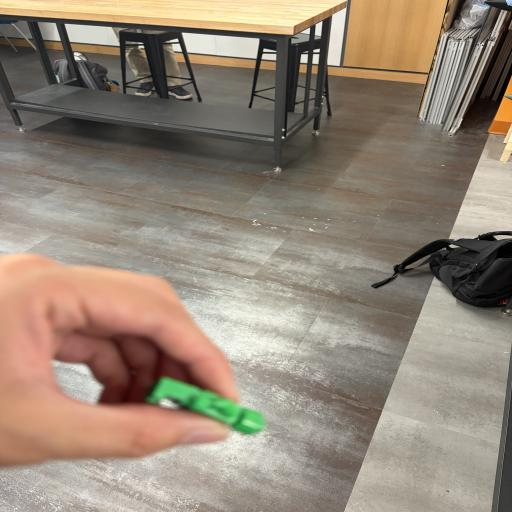Green-Lego: (158, 377, 266, 434)
